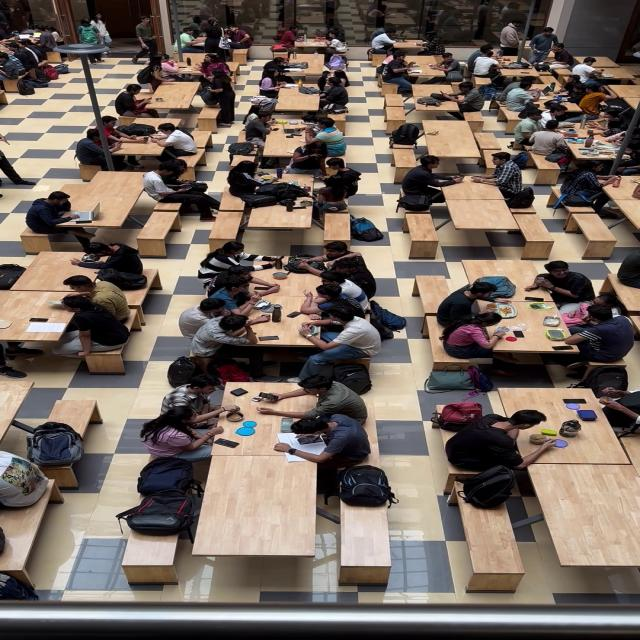Occupied: (496, 385, 636, 465), (194, 386, 312, 456), (445, 410, 547, 474), (8, 253, 157, 296), (259, 372, 369, 427), (229, 259, 342, 306), (280, 412, 371, 470), (62, 172, 151, 224), (140, 159, 219, 214), (160, 375, 240, 429), (138, 407, 221, 459), (557, 306, 636, 359), (306, 308, 384, 361), (188, 317, 280, 361), (117, 491, 202, 537), (514, 90, 602, 132), (436, 278, 508, 326), (446, 312, 512, 364), (557, 163, 622, 213), (400, 156, 463, 205), (296, 268, 368, 310), (204, 272, 278, 312), (254, 119, 318, 165), (198, 242, 280, 277), (454, 465, 516, 509), (333, 465, 396, 508), (73, 241, 145, 278), (26, 422, 85, 467), (526, 261, 594, 300), (136, 456, 202, 496), (24, 193, 82, 236), (472, 152, 524, 199), (296, 238, 363, 273), (555, 290, 626, 323), (87, 115, 145, 154), (294, 51, 350, 88), (198, 69, 236, 122), (226, 160, 278, 198), (576, 365, 630, 398), (602, 390, 640, 436), (148, 82, 199, 116), (321, 157, 361, 200), (493, 61, 552, 90), (436, 81, 486, 114), (513, 108, 557, 145), (274, 82, 323, 114), (434, 401, 484, 432), (308, 118, 346, 158), (529, 124, 573, 158), (114, 85, 158, 118), (584, 107, 630, 138), (381, 56, 416, 95), (331, 363, 372, 396), (310, 181, 351, 213), (242, 111, 278, 146), (502, 80, 541, 111), (262, 56, 303, 85), (526, 28, 559, 64), (390, 54, 445, 73), (255, 182, 309, 200), (563, 58, 608, 79), (316, 466, 342, 502), (318, 79, 349, 109), (168, 356, 198, 386), (158, 122, 191, 149), (471, 51, 504, 78), (476, 276, 516, 298), (465, 365, 494, 394), (67, 230, 102, 254), (561, 189, 602, 209), (287, 150, 324, 172), (545, 44, 575, 70), (288, 40, 328, 59), (152, 54, 181, 80), (200, 55, 230, 80), (579, 91, 609, 115), (215, 364, 251, 383), (504, 187, 535, 209), (224, 26, 254, 48), (500, 20, 522, 50), (390, 124, 420, 146), (371, 27, 397, 52), (171, 64, 206, 82), (1, 55, 27, 79), (396, 194, 432, 211), (179, 28, 204, 52), (390, 41, 428, 56), (238, 194, 278, 208), (274, 26, 299, 48), (544, 147, 572, 165), (118, 123, 156, 136), (283, 257, 312, 273), (0, 34, 27, 51), (131, 98, 154, 115), (198, 86, 218, 105), (587, 57, 621, 68), (177, 181, 208, 193), (458, 99, 483, 113), (518, 105, 542, 119), (322, 103, 349, 115), (137, 66, 155, 84), (257, 99, 277, 115), (430, 91, 458, 102), (327, 38, 348, 52), (508, 138, 526, 151), (617, 167, 640, 176), (446, 70, 463, 82), (498, 47, 518, 57), (51, 31, 65, 45), (218, 36, 232, 49), (285, 62, 308, 69), (542, 83, 556, 94), (232, 41, 251, 49), (271, 44, 289, 52), (382, 54, 394, 64)
Unoccupied: (190, 452, 317, 560), (530, 463, 640, 575), (452, 483, 527, 593), (339, 496, 392, 586), (120, 528, 184, 585), (243, 191, 321, 237), (0, 382, 36, 451), (566, 212, 620, 256), (512, 212, 562, 256), (134, 213, 182, 254), (452, 201, 524, 227), (46, 400, 101, 434), (423, 138, 482, 168), (208, 206, 250, 244), (404, 212, 440, 256), (183, 49, 239, 70), (95, 270, 148, 290), (472, 130, 502, 165), (415, 275, 451, 304), (370, 302, 406, 331), (115, 113, 189, 126), (323, 210, 351, 242), (391, 146, 420, 173), (350, 217, 382, 240), (159, 158, 189, 180), (0, 264, 26, 288), (227, 142, 257, 156), (477, 84, 499, 101), (326, 54, 347, 71), (416, 96, 442, 106), (298, 85, 320, 95), (503, 61, 527, 70), (534, 62, 552, 72)
